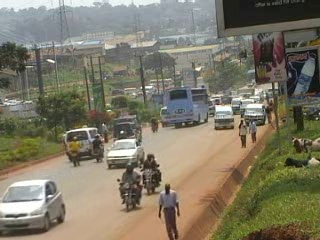Car: (0, 177, 67, 234), (105, 136, 146, 170), (108, 121, 143, 145)
Motorcycle: (116, 161, 143, 211), (137, 152, 163, 196), (68, 135, 83, 168), (91, 132, 105, 164), (150, 115, 162, 134)
